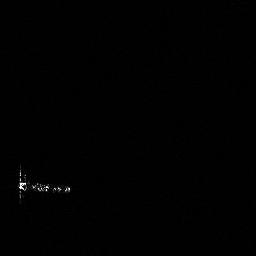ship: (16, 164, 72, 201)
